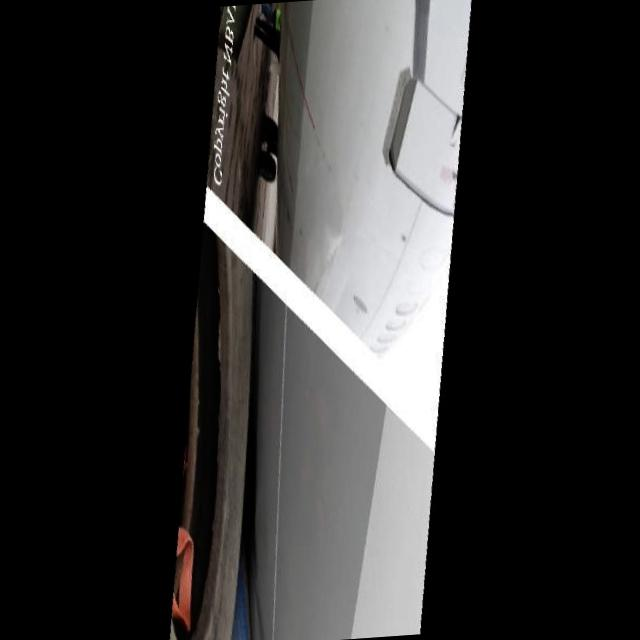dent: (234, 476, 273, 640), (319, 192, 350, 248)
